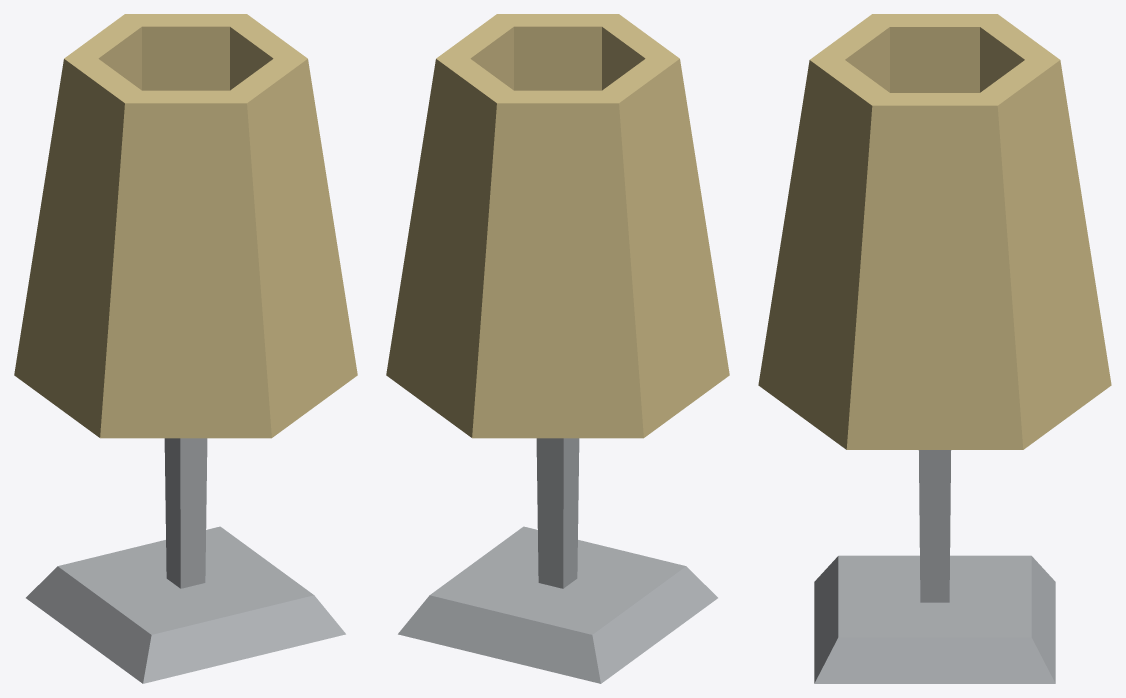
The model's file is table_lamp_round.glb.
3 renders of one model, left to right at view 1: azimuth 30°, elevation 25°; view 2: azimuth 150°, elevation 25°; view 3: azimuth 270°, elevation 25°, orthographic. The views are drawn at different scales.
Visible parts, largest first — view 1: table_lamp_round; view 2: table_lamp_round; view 3: table_lamp_round.
Part boxes in pixels (bbox=[...]): table_lamp_round: bbox=[14, 14, 357, 683]; table_lamp_round: bbox=[386, 14, 729, 683]; table_lamp_round: bbox=[758, 14, 1111, 683].
Size of the model in its own units: 0.2177 by 0.45 by 0.2514.
